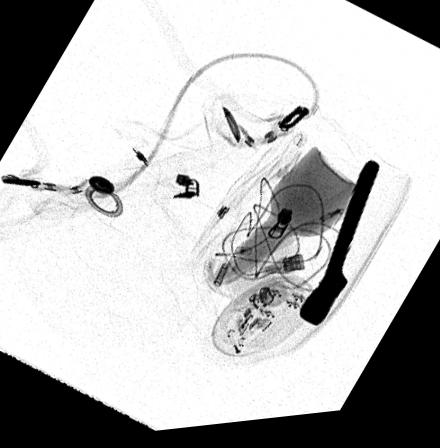Wrench: (298, 169, 380, 332)
